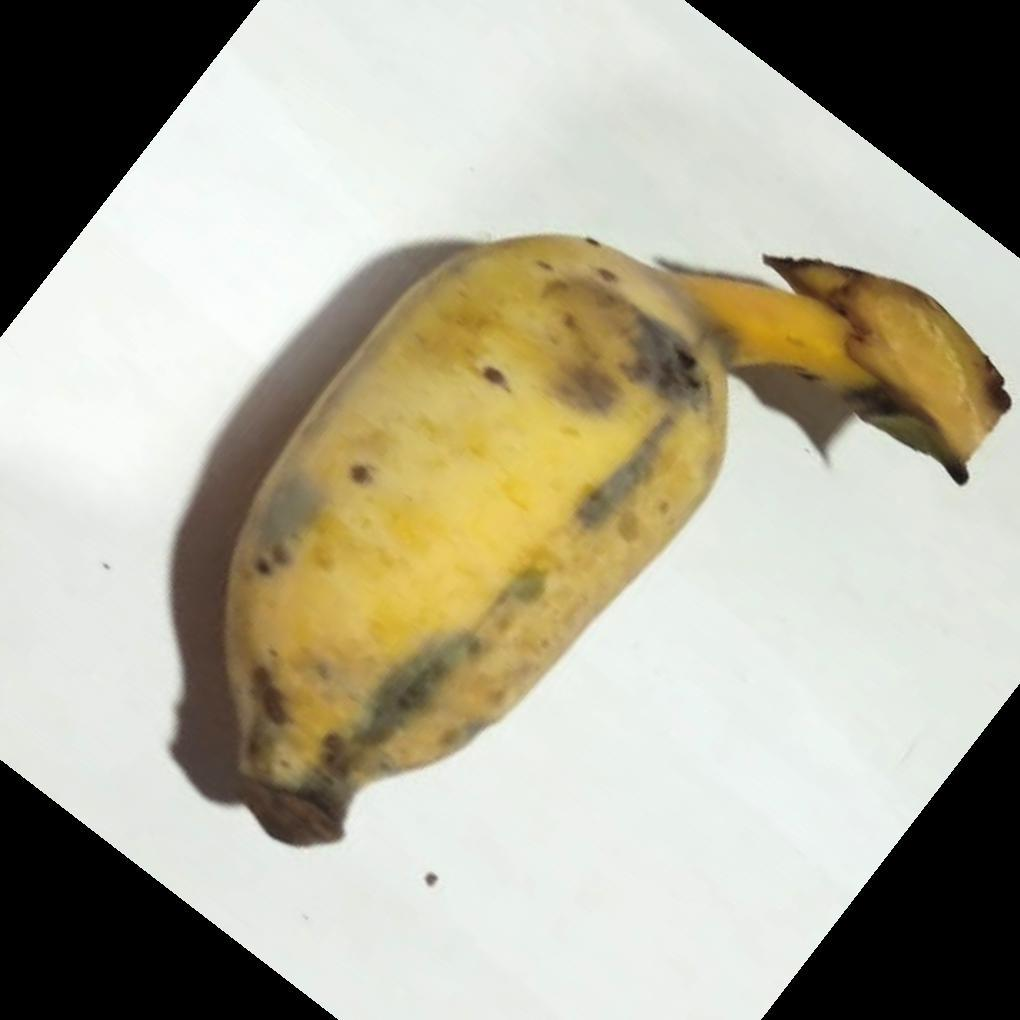Banana Ripe: (236, 253, 913, 834)
